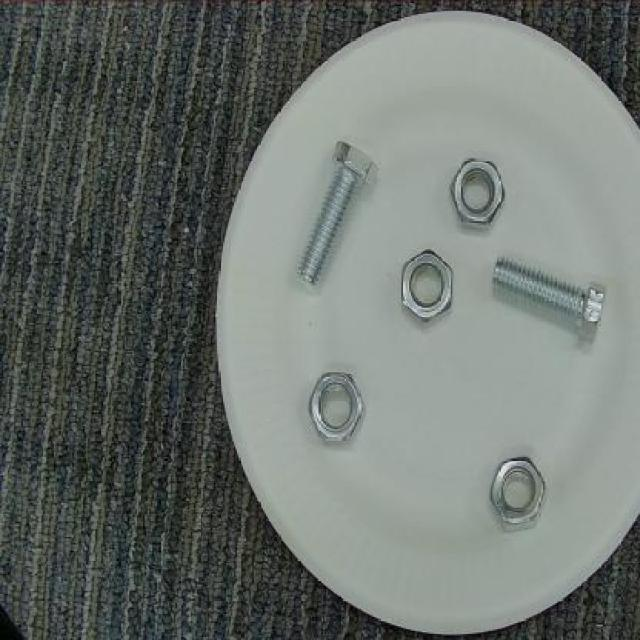Bolt: (294, 134, 382, 291), (484, 251, 610, 338)
Nut: (485, 451, 551, 535), (396, 248, 464, 329), (305, 368, 365, 444), (452, 152, 506, 228)
